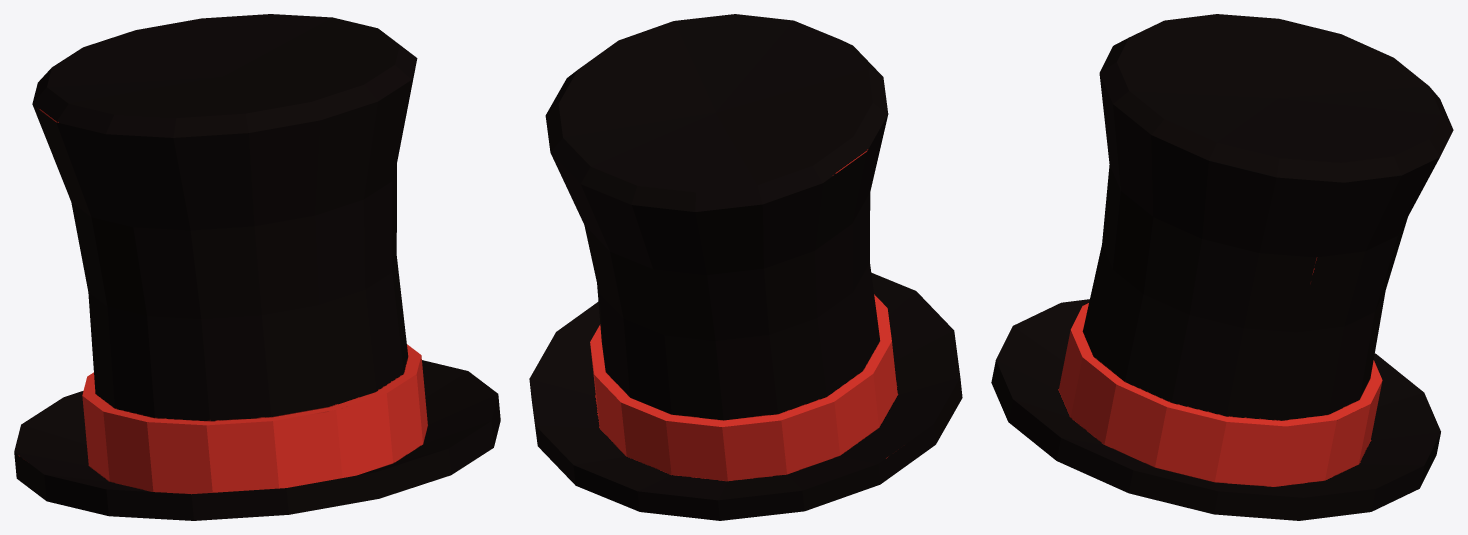
Rendered from MSH_SombreroCopa.fbx.
3 renders of one model, left to right at view 1: azimuth 30°, elevation 25°; view 2: azimuth 150°, elevation 25°; view 3: azimuth 270°, elevation 25°, orthographic. The views are drawn at different scales.
Parts seen in each view (by area): view 1: MSH_SombreroCopa; view 2: MSH_SombreroCopa; view 3: MSH_SombreroCopa.
Part boxes in pixels (x1,y1,x2,y2): MSH_SombreroCopa: [14, 14, 500, 520]; MSH_SombreroCopa: [529, 14, 962, 520]; MSH_SombreroCopa: [991, 14, 1453, 520].
Bounding box in the file's own units: 93.25 × 89.35 × 95.3.
1 material, 1 textured.
